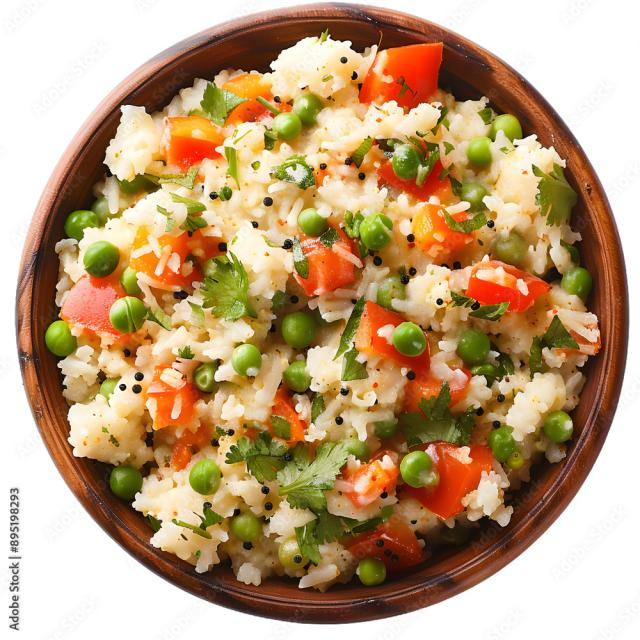UPMA: (45, 38, 601, 595)
